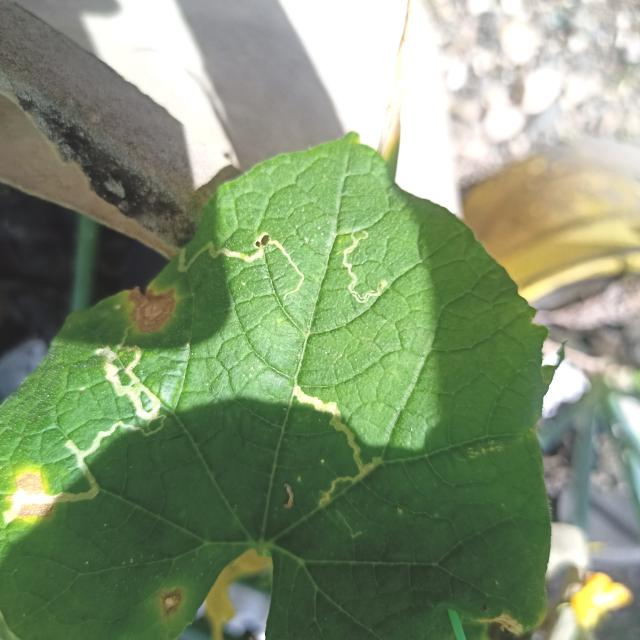disease_cucumber: (126, 280, 182, 339), (12, 472, 55, 522), (157, 583, 186, 623)
